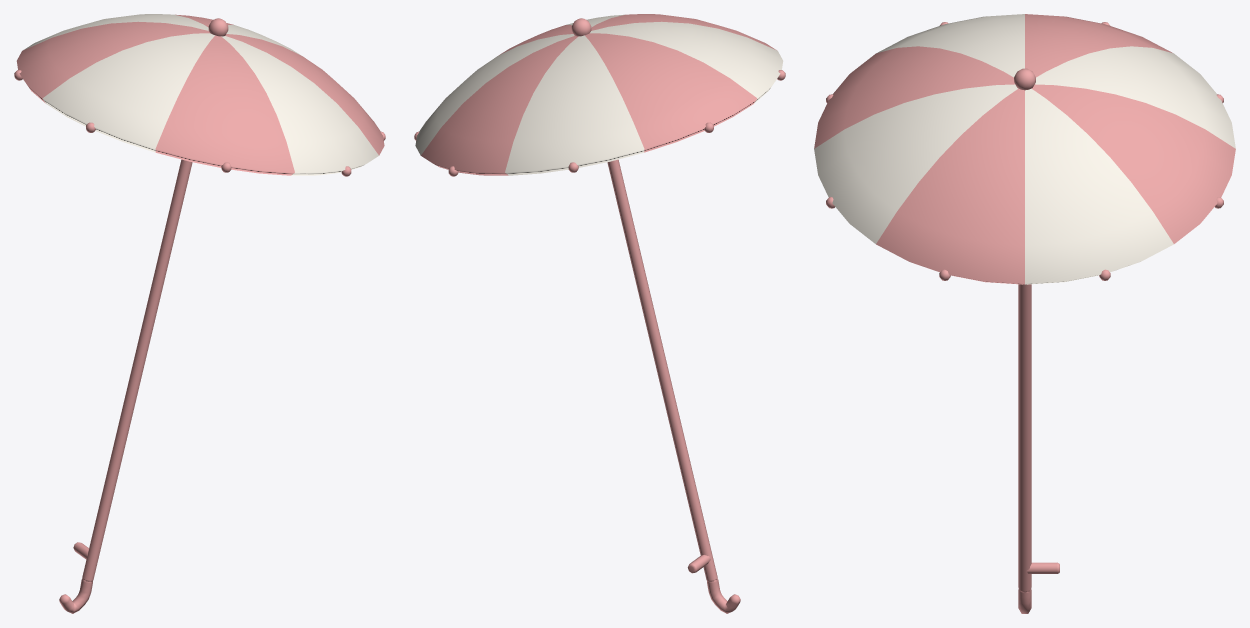
The model's file is candy_umbrella.glb.
3 views of the same model, side by side, from view 1: azimuth 30°, elevation 25°; view 2: azimuth 150°, elevation 25°; view 3: azimuth 270°, elevation 25° (orthographic). The views are drawn at different scales.
Visible parts, largest first — view 1: candy_umbrella_ArmR; view 2: candy_umbrella_ArmR; view 3: candy_umbrella_ArmR.
Part boxes in pixels (box(x1,y1,x2,y2)): candy_umbrella_ArmR: box(14, 14, 385, 613); candy_umbrella_ArmR: box(414, 14, 785, 613); candy_umbrella_ArmR: box(814, 14, 1235, 613).
Size of the model in its own units: 0.8703 by 1.47 by 0.9.
